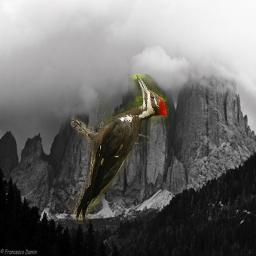Woodpecker: (67, 74, 169, 224)
